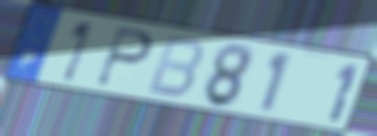1: (260, 49, 294, 116), (61, 20, 95, 84), (330, 63, 361, 126)
8: (201, 40, 254, 111)
B: (144, 33, 206, 100)
P: (92, 24, 157, 90)
